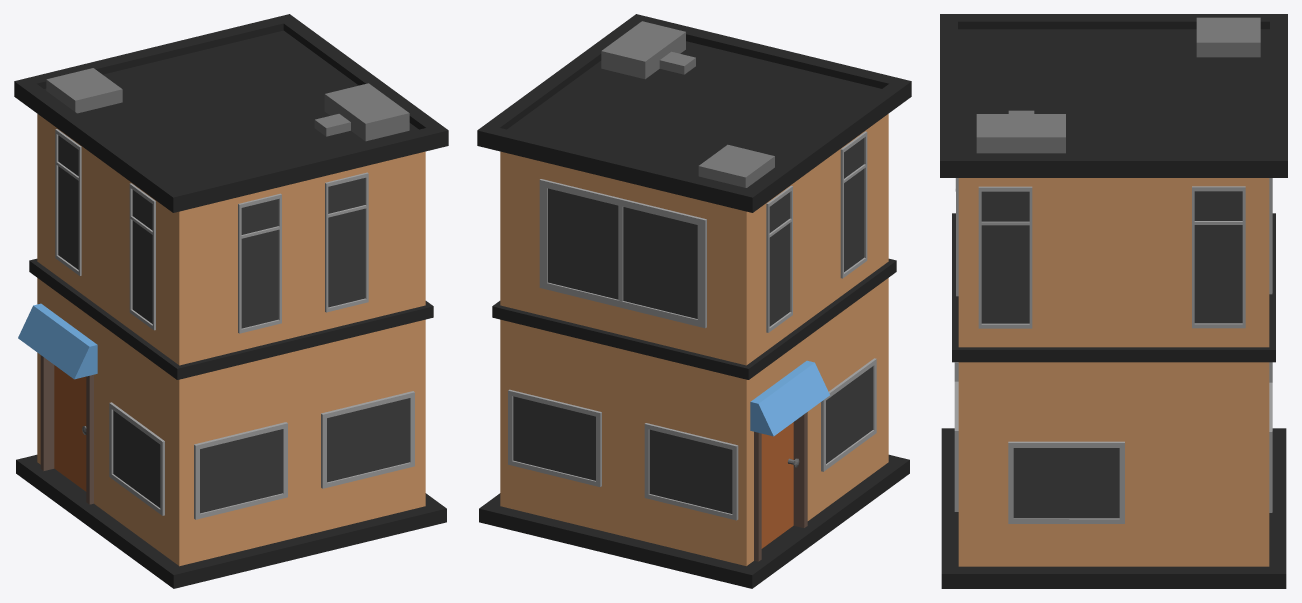
The model's file is lowpolybuildingfixed.fbx.
3 views of the same model, side by side, from view 1: azimuth 30°, elevation 25°; view 2: azimuth 150°, elevation 25°; view 3: azimuth 270°, elevation 25° (orthographic). The views are drawn at different scales.
Visible parts, largest first — view 1: Cube; view 2: Cube; view 3: Cube.
Boxes of the visible parts, box(x1,y1,x2,y2) form: Cube: box(14, 14, 448, 588); Cube: box(477, 14, 911, 588); Cube: box(940, 14, 1287, 588).
Size of the model in its own units: 548 by 742 by 531.
